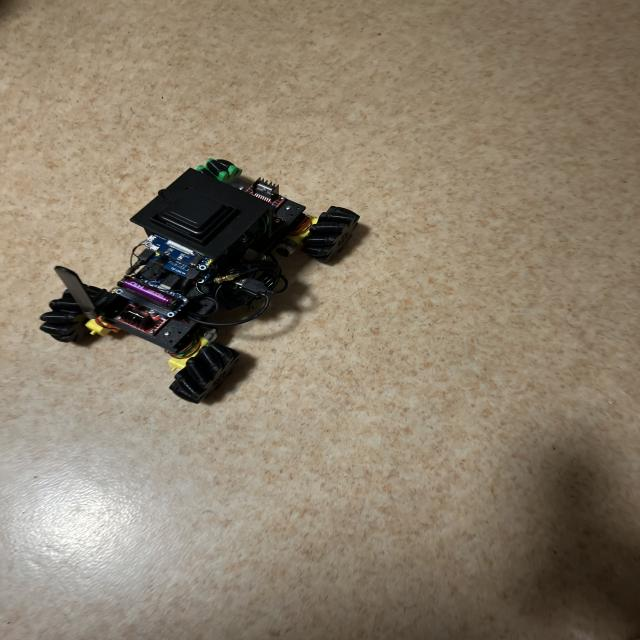robot: (40, 159, 359, 403)
